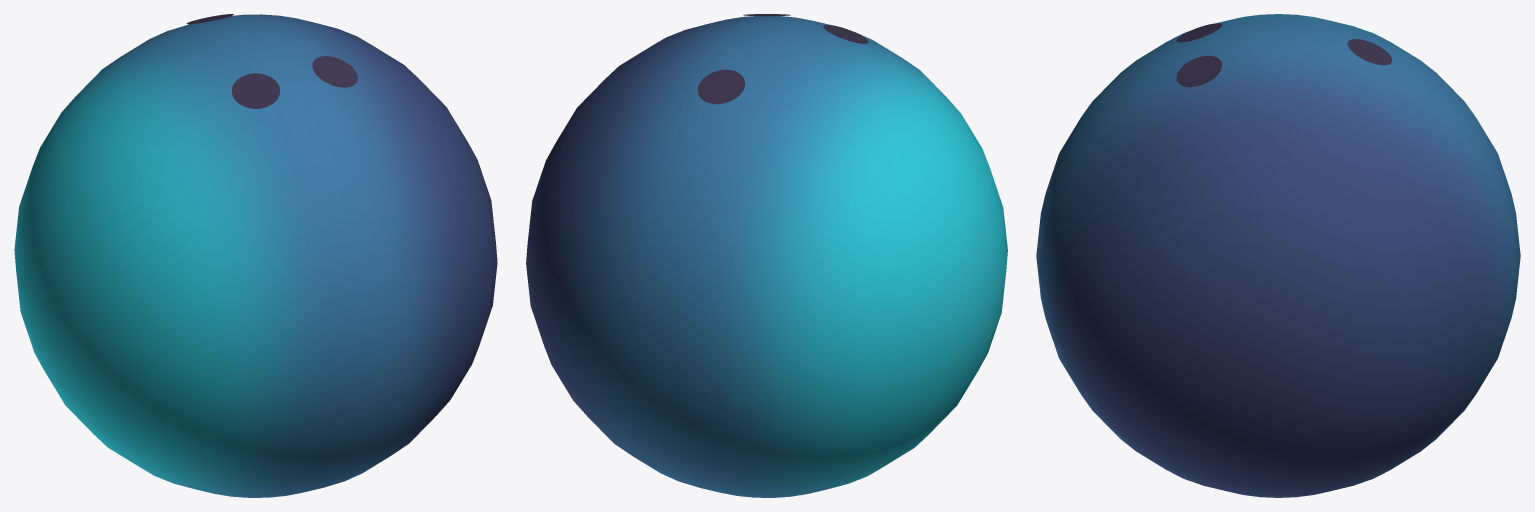
File: ball_blue.gltf
3 renders of one model, left to right at view 1: azimuth 30°, elevation 25°; view 2: azimuth 150°, elevation 25°; view 3: azimuth 270°, elevation 25°, orthographic.
Visible parts, largest first — view 1: bowlingBall.001; view 2: bowlingBall.001; view 3: bowlingBall.001.
Part boxes in pixels (bbox=[...]): bowlingBall.001: bbox=[14, 14, 497, 497]; bowlingBall.001: bbox=[526, 14, 1007, 497]; bowlingBall.001: bbox=[1036, 14, 1520, 497].
Size of the model in its own units: 0.25 by 0.25 by 0.25.
Materials: 1 (1 with a texture image).
